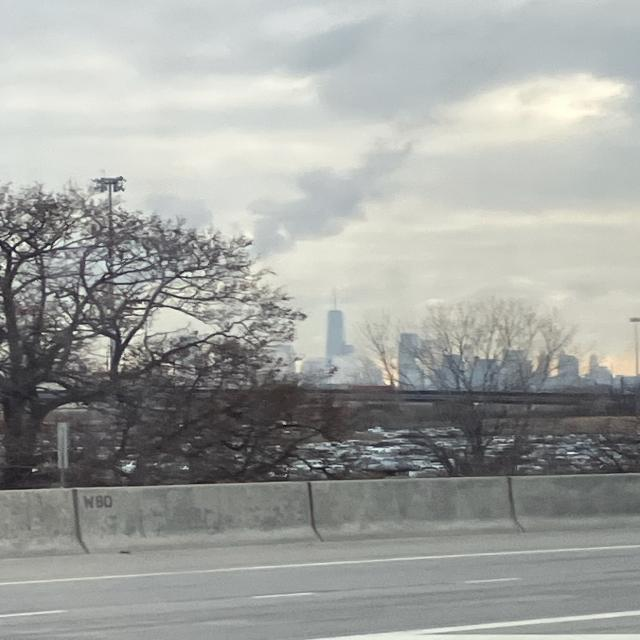WTC: (324, 288, 348, 364)
